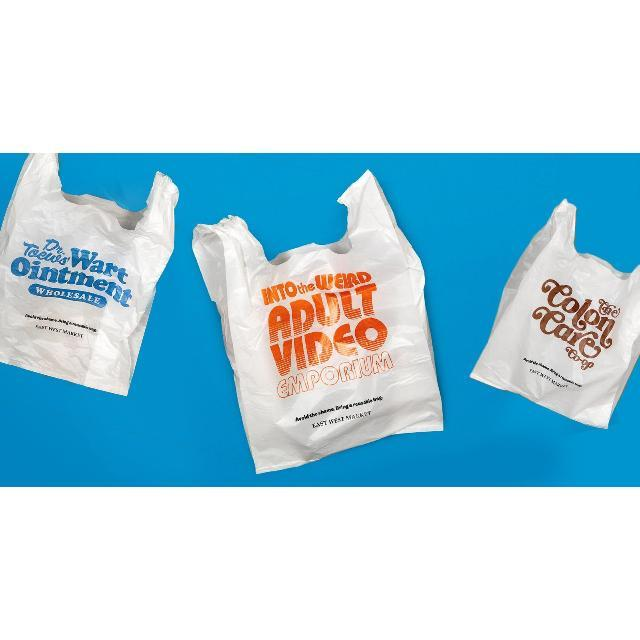Single-layer Plastic: (192, 171, 442, 472), (0, 154, 178, 394), (471, 200, 640, 428)
